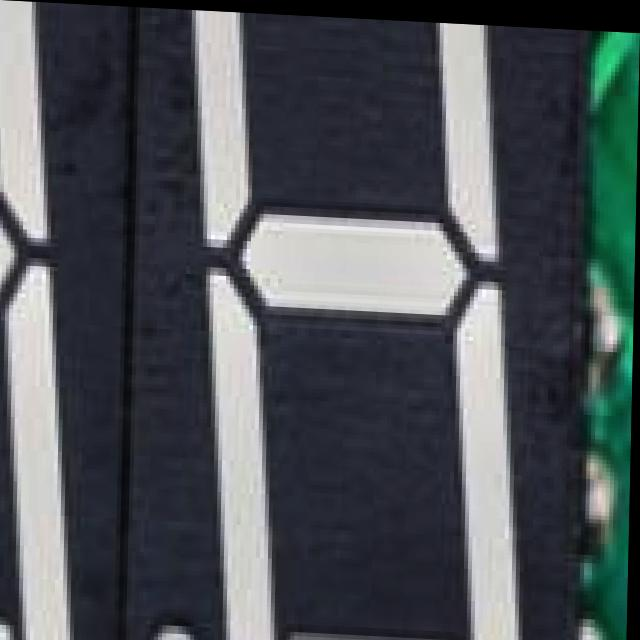display: (0, 0, 596, 640)
